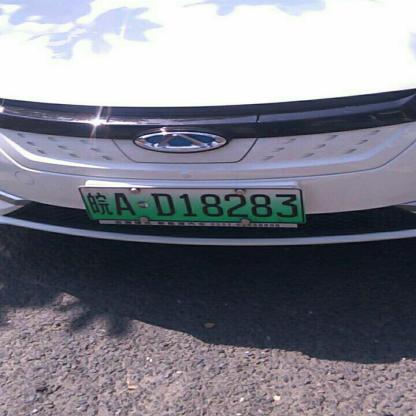lp: (80, 187, 303, 221)
